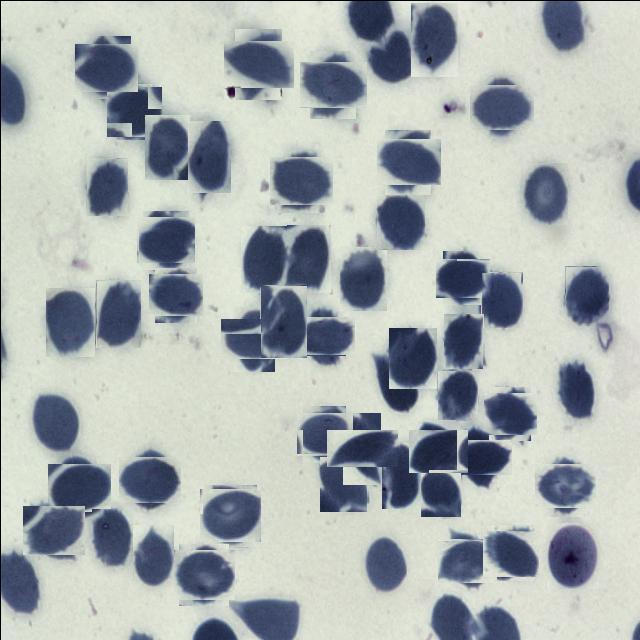red blood cell: (228, 34, 287, 93), (410, 2, 457, 76), (259, 284, 306, 357), (45, 287, 94, 356), (201, 486, 258, 544), (49, 459, 106, 515), (304, 56, 361, 112), (175, 546, 231, 602), (272, 152, 328, 208), (30, 392, 80, 454), (187, 120, 230, 192), (240, 225, 286, 292), (380, 134, 436, 189), (78, 39, 134, 94), (26, 502, 81, 558), (340, 246, 388, 310), (95, 279, 140, 347), (474, 78, 528, 134), (286, 224, 330, 292), (122, 452, 177, 506), (388, 327, 436, 388), (144, 114, 189, 179), (106, 84, 160, 138), (334, 421, 388, 475), (521, 161, 567, 224), (138, 213, 192, 266), (538, 458, 590, 512), (227, 312, 280, 364), (374, 351, 418, 413), (440, 534, 492, 586), (484, 526, 536, 578), (376, 193, 424, 249), (362, 533, 406, 594), (412, 425, 464, 476), (320, 456, 368, 511), (381, 441, 420, 508), (299, 310, 349, 361), (132, 524, 173, 586), (368, 28, 414, 83), (564, 265, 608, 322), (298, 408, 348, 458), (91, 508, 132, 568), (85, 157, 127, 215), (150, 270, 200, 318), (456, 432, 504, 481), (480, 271, 522, 327), (485, 389, 533, 437), (438, 253, 486, 300), (557, 360, 595, 419), (444, 313, 484, 368), (437, 370, 477, 419), (420, 470, 460, 518)
ring: (546, 522, 598, 588)
